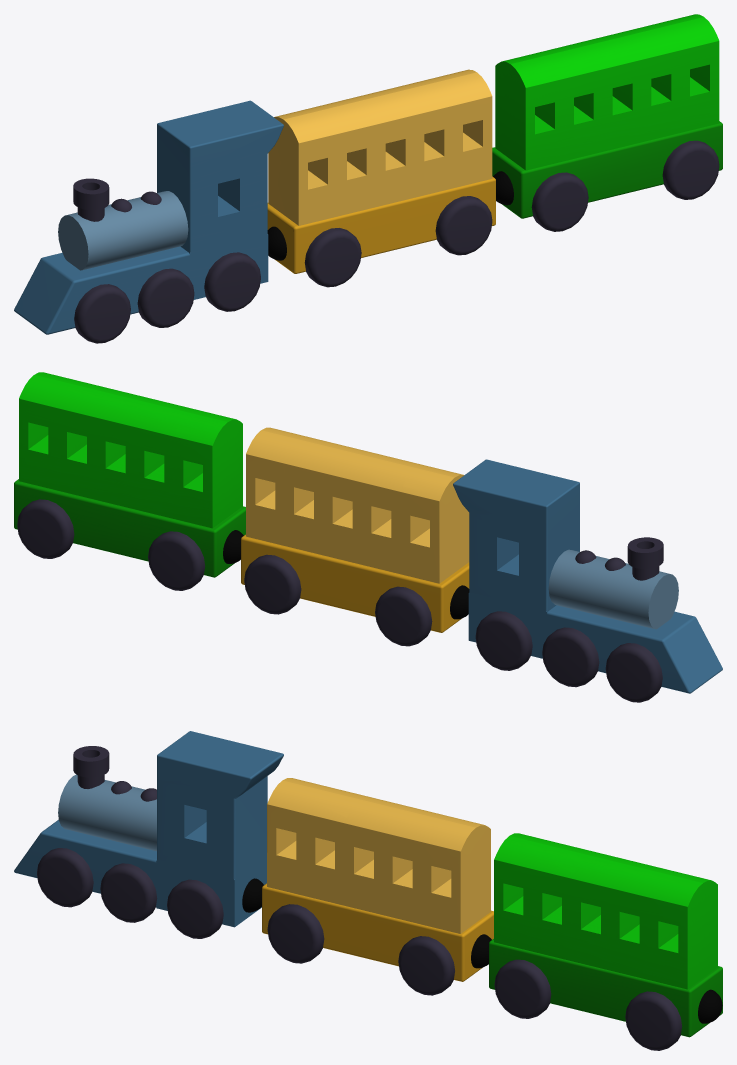
File: SM_Train.fbx
The picture shows the model from 3 angles, top to bottom: view 1: azimuth 30°, elevation 25°; view 2: azimuth 150°, elevation 25°; view 3: azimuth 330°, elevation 25°; orthographic projection.
Parts seen in each view (by area): view 1: pPlane2 (×2), pPlane1, pCube36 (×2), pCube35, pCylinder1, pCylinder12 (×2), pCylinder10 (×2), pCylinder3, pCylinder6, pCylinder8, pSphere6 (×2), pPipe1; view 2: pPlane2 (×2), pPlane1, pCube36 (×2), pCube35, pCylinder1, pCylinder11 (×2), pCylinder9 (×2), pCylinder5, pCylinder7, pCylinder4, pPipe1, pSphere6; view 3: pPlane2 (×2), pPlane1, pCube36 (×2), pCylinder10 (×2), pCylinder12 (×2), pCylinder1, pCube35, pCylinder6, pCylinder8, pCylinder3, pSphere7 (×2), pPipe1 (+1 smaller).
Boxes of the visible parts, left/top/right/bottom form: pPlane2 (×2): left=268, top=14, right=719, bottom=225; pPlane1: left=157, top=100, right=283, bottom=299; pCube36 (×2): left=267, top=121, right=722, bottom=273; pCube35: left=14, top=246, right=189, bottom=334; pCylinder1: left=58, top=191, right=188, bottom=270; pCylinder12 (×2): left=435, top=140, right=719, bottom=255; pCylinder10 (×2): left=304, top=172, right=588, bottom=287; pCylinder3: left=74, top=284, right=130, bottom=343; pCylinder6: left=137, top=268, right=194, bottom=327; pCylinder8: left=204, top=252, right=260, bottom=311; pSphere6 (×2): left=267, top=171, right=513, bottom=260; pPipe1: left=73, top=178, right=109, bottom=210; pPlane2 (×2): left=19, top=372, right=469, bottom=583; pPlane1: left=453, top=459, right=579, bottom=658; pCube36 (×2): left=14, top=479, right=469, bottom=632; pCube35: left=547, top=605, right=722, bottom=693; pCylinder1: left=548, top=549, right=678, bottom=629; pCylinder11 (×2): left=17, top=499, right=301, bottom=614; pCylinder9 (×2): left=148, top=531, right=432, bottom=646; pCylinder5: left=542, top=627, right=599, bottom=687; pCylinder7: left=475, top=611, right=532, bottom=670; pCylinder4: left=605, top=643, right=662, bottom=702; pPipe1: left=627, top=537, right=663, bottom=568; pSphere6: left=450, top=585, right=469, bottom=619; pPlane2 (×2): left=267, top=778, right=717, bottom=989; pPlane1: left=156, top=731, right=283, bottom=927; pCube36 (×2): left=262, top=883, right=722, bottom=1037; pCylinder10 (×2): left=267, top=904, right=551, bottom=1018; pCylinder12 (×2): left=398, top=936, right=682, bottom=1050; pCylinder1: left=58, top=774, right=156, bottom=851; pCube35: left=14, top=820, right=156, bottom=906; pCylinder6: left=100, top=863, right=157, bottom=922; pCylinder8: left=167, top=879, right=223, bottom=938; pCylinder3: left=37, top=848, right=93, bottom=907; pSphere7 (×2): left=471, top=934, right=722, bottom=1023; pPipe1: left=73, top=746, right=109, bottom=777.
Size of the model in its own units: 77.41 by 18.35 by 9.01.
